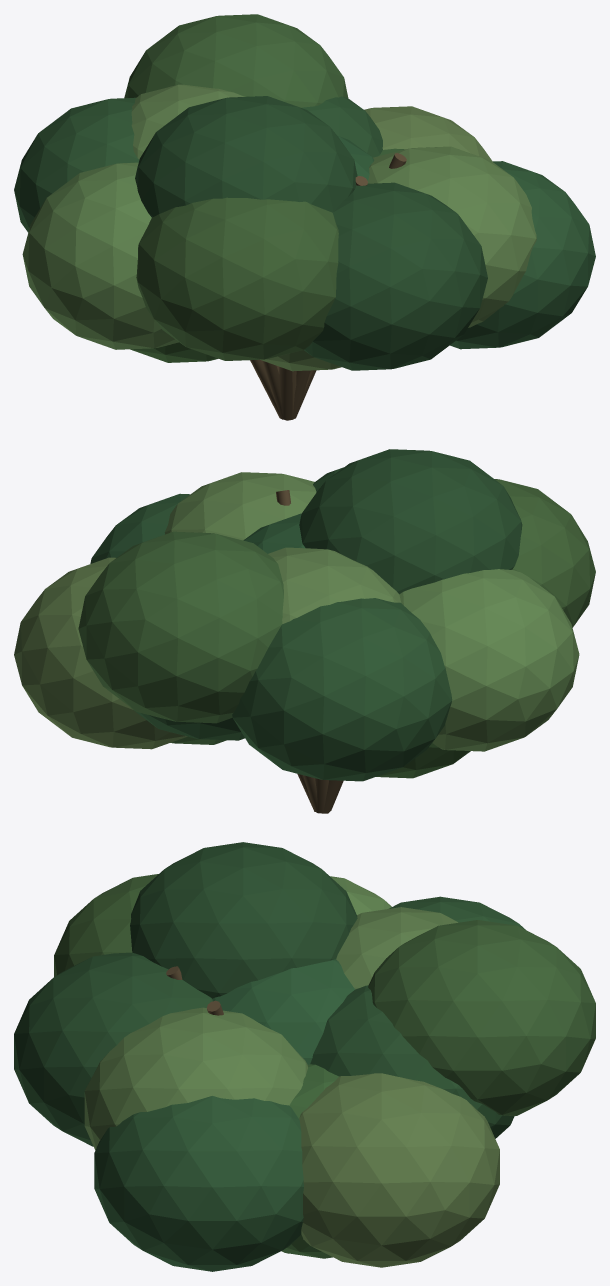
File: shrub-round.near.glb
3 views of the same model, one above another, from view 1: azimuth 30°, elevation 25°; view 2: azimuth 150°, elevation 25°; view 3: azimuth 270°, elevation 25° (orthographic). The views are drawn at different scales.
Parts seen in each view (by area): view 1: foliage, wood; view 2: foliage, wood; view 3: foliage.
Part boxes in pixels (x1=…): foliage: x1=14, y1=14, x2=595, y2=371; wood: x1=250, y1=153, x2=406, y2=420; foliage: x1=14, y1=449, x2=595, y2=781; wood: x1=276, y1=490, x2=343, y2=813; foliage: x1=14, y1=842, x2=595, y2=1271.
Size of the model in its own units: 2.73 by 1.8 by 2.64.
